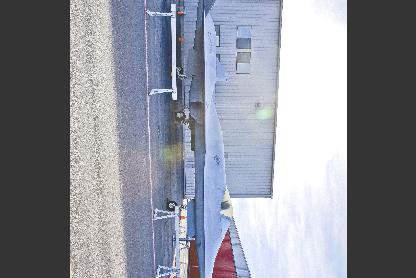US2: (166, 0, 237, 275)
